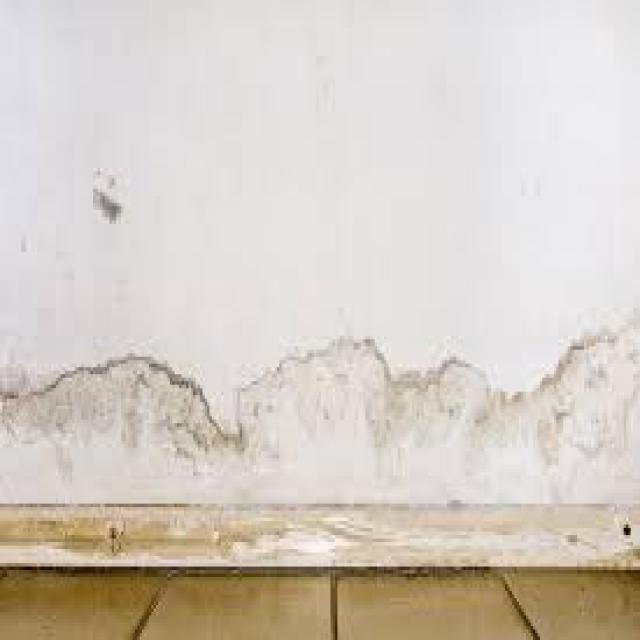stain_mould: (0, 331, 637, 510)
